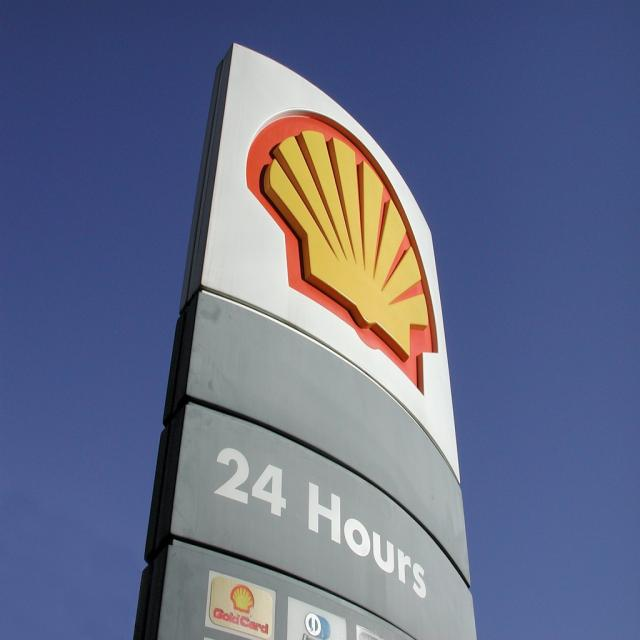shell: (247, 110, 442, 390), (233, 586, 256, 613)
